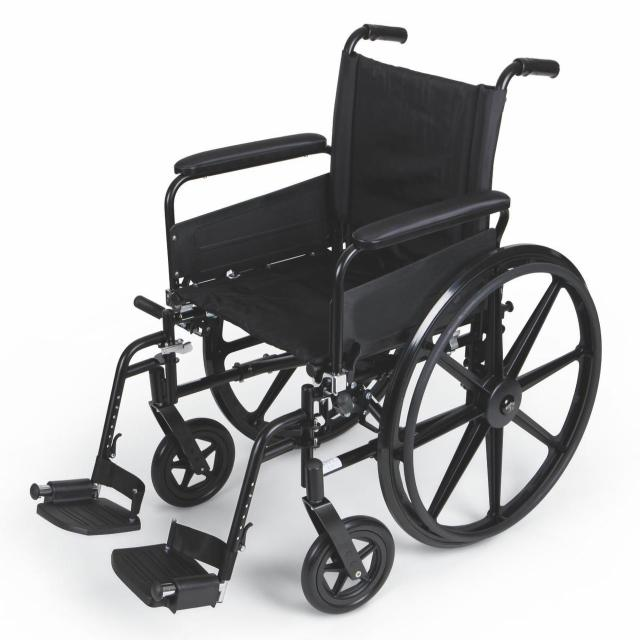wheelchair: (21, 17, 620, 621)
